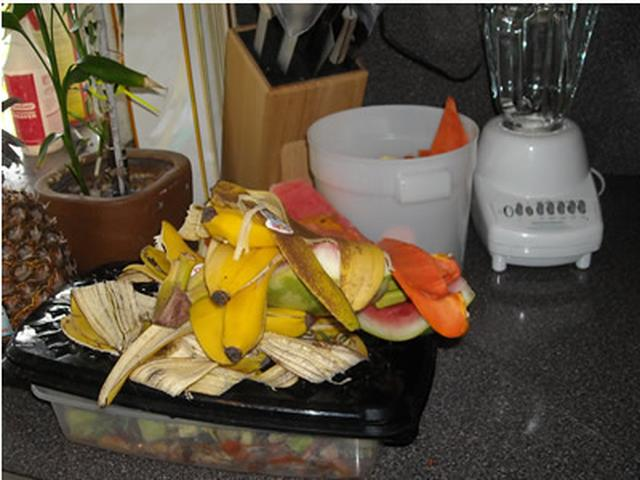garbage: (155, 224, 371, 379)
